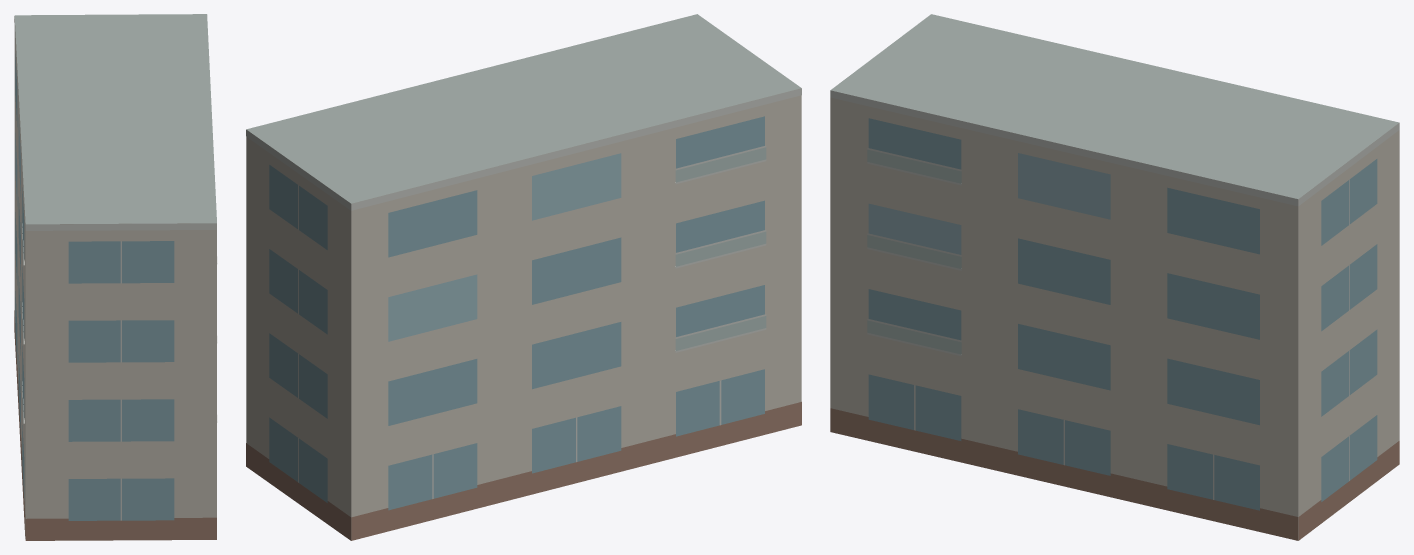
Rendered from survey-upis-32870627.glb.
3 views of the same model, side by side, from view 1: azimuth 30°, elevation 25°; view 2: azimuth 150°, elevation 25°; view 3: azimuth 270°, elevation 25° (orthographic). The views are drawn at different scales.
Parts seen in each view (by area): view 1: survey-upis-32870627.tmp; view 2: survey-upis-32870627.tmp; view 3: survey-upis-32870627.tmp.
Boxes of the visible parts, <box> form: survey-upis-32870627.tmp: <box>14,14,217,540</box>; survey-upis-32870627.tmp: <box>246,14,801,540</box>; survey-upis-32870627.tmp: <box>830,14,1399,540</box>.
Size of the model in its own units: 13.5 by 11.6 by 17.53.
